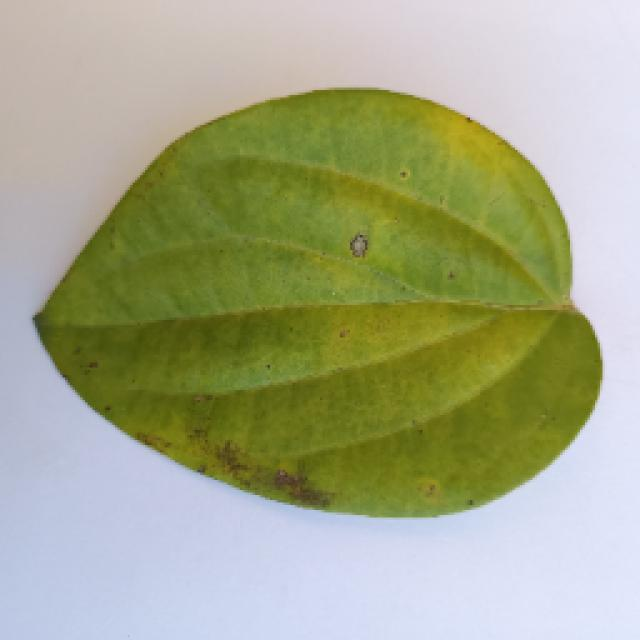slow-decline: (15, 85, 610, 537)
